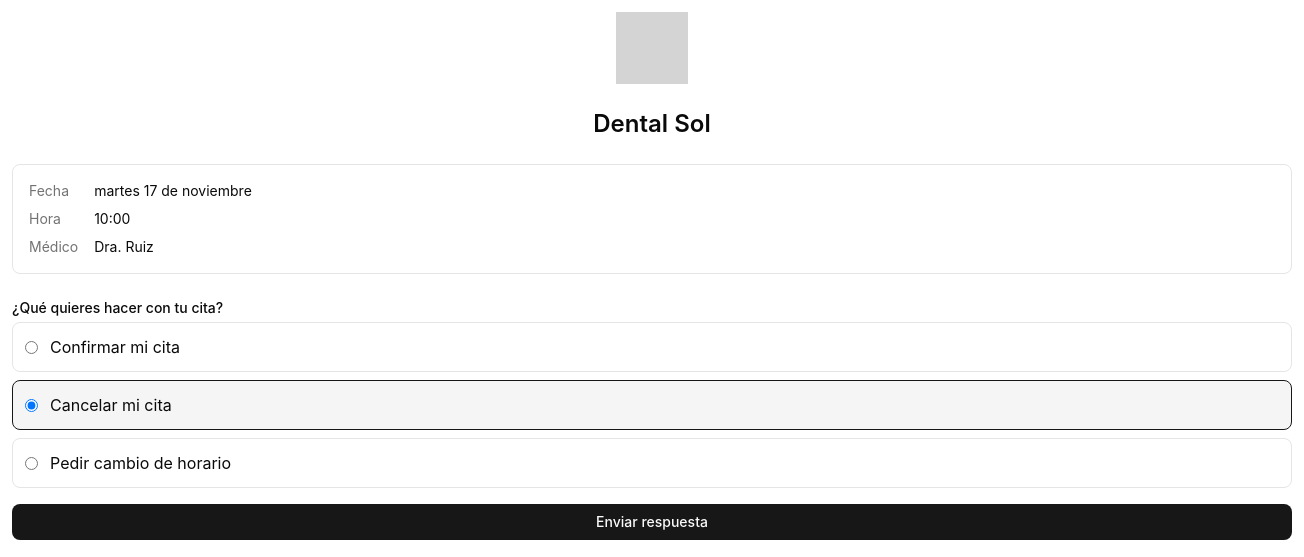
Test case: PaginaRespuesta › al enviar manda token y la opción elegida y da las gracias
What coordinates should you click on to do the following:
click the radio button labelled "Pedir cambio de horario"
I would click on:
 (32, 463)
Its box is [25,456,38,470].
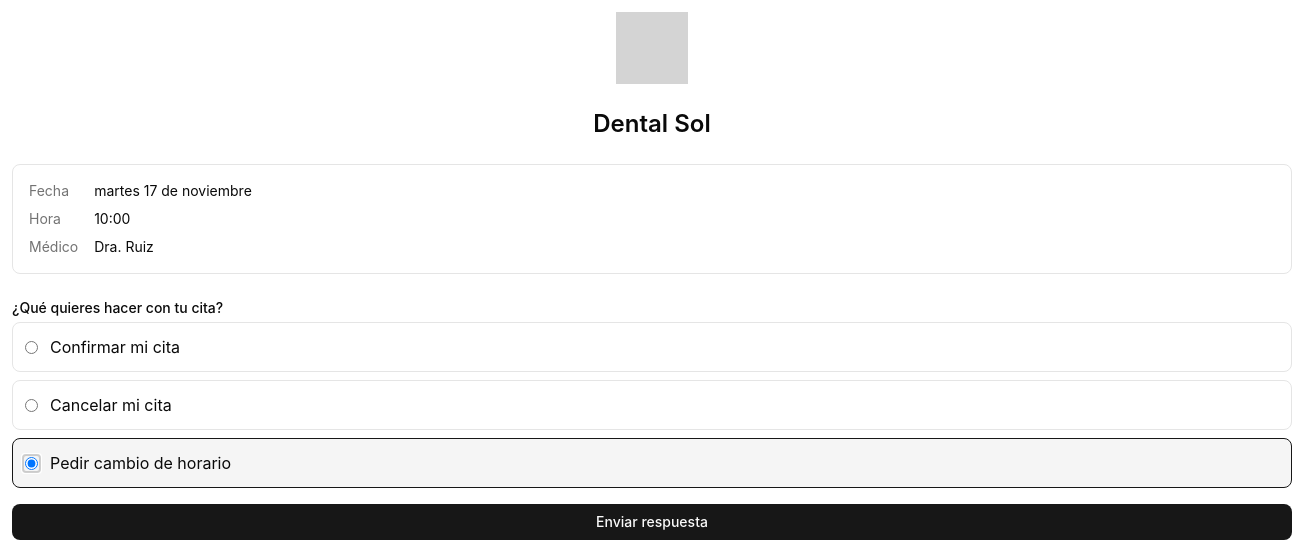
What coordinates should you click on to do the following:
click the button "Enviar respuesta"
I would click on:
 (652, 522)
Its box is [12,504,1292,540].
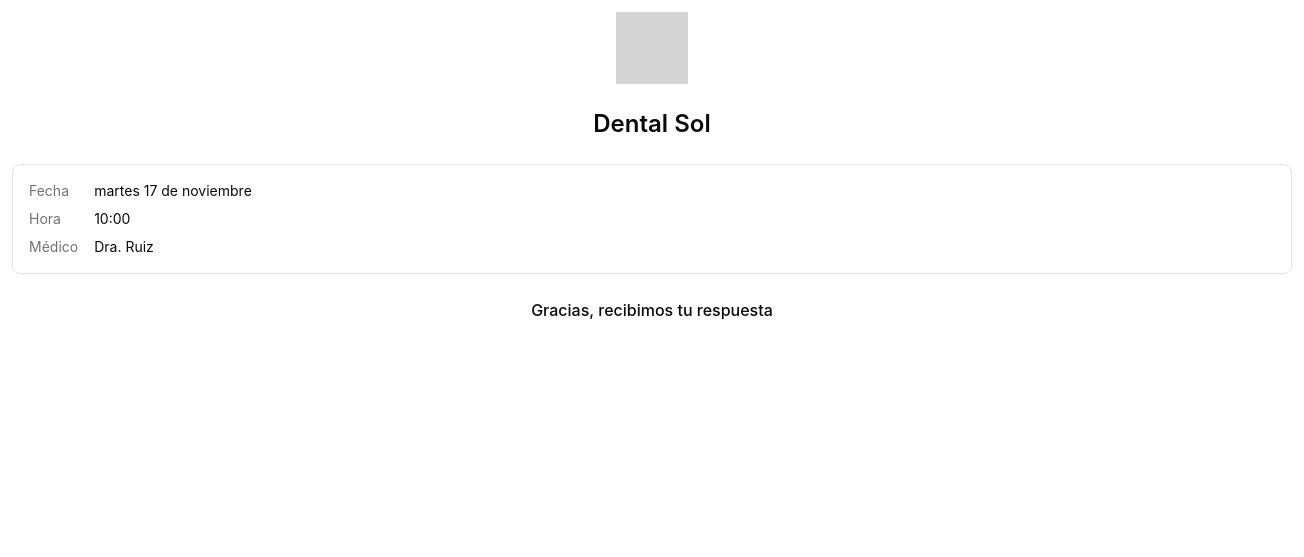
Check: the text "Gracias, recibimos tu respuesta" is shown, box [531,300,773,320]
